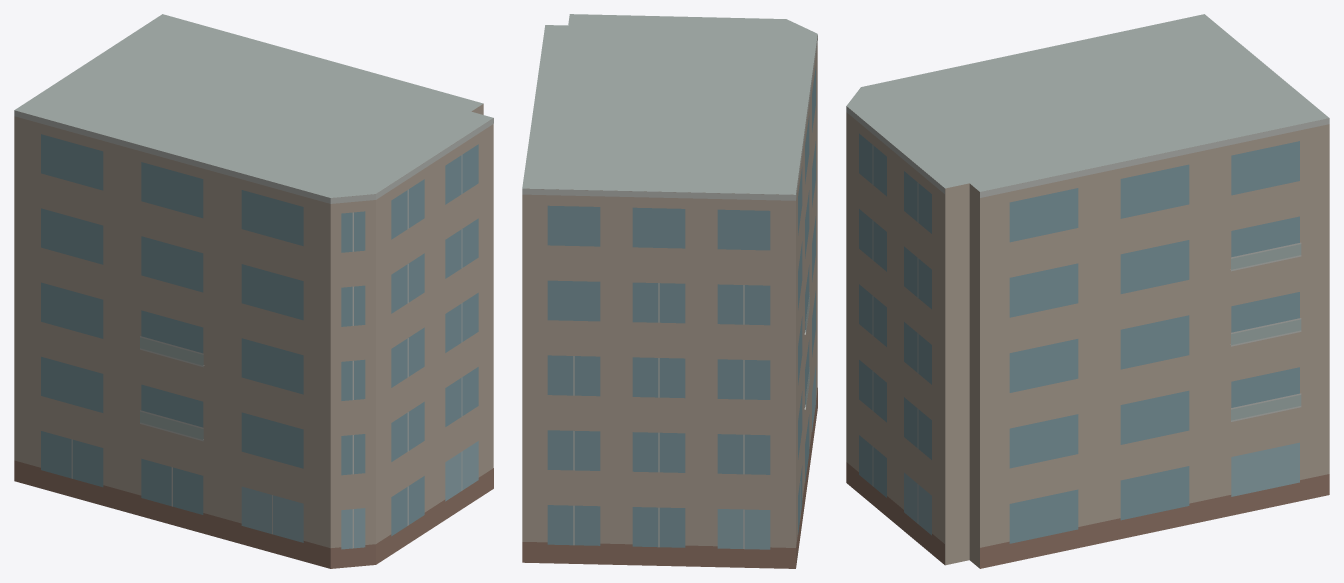
File: survey-upis-32627438.glb
3 renders of one model, left to right at view 1: azimuth 30°, elevation 25°; view 2: azimuth 150°, elevation 25°; view 3: azimuth 270°, elevation 25°, orthographic.
Visible parts, largest first — view 1: survey-upis-32627438.tmp; view 2: survey-upis-32627438.tmp; view 3: survey-upis-32627438.tmp.
Part boxes in pixels (x1,y1,x2,y2): survey-upis-32627438.tmp: [14, 14, 493, 568]; survey-upis-32627438.tmp: [522, 14, 817, 568]; survey-upis-32627438.tmp: [846, 14, 1329, 568].
Size of the model in its own units: 15.46 by 15.25 by 17.73.
